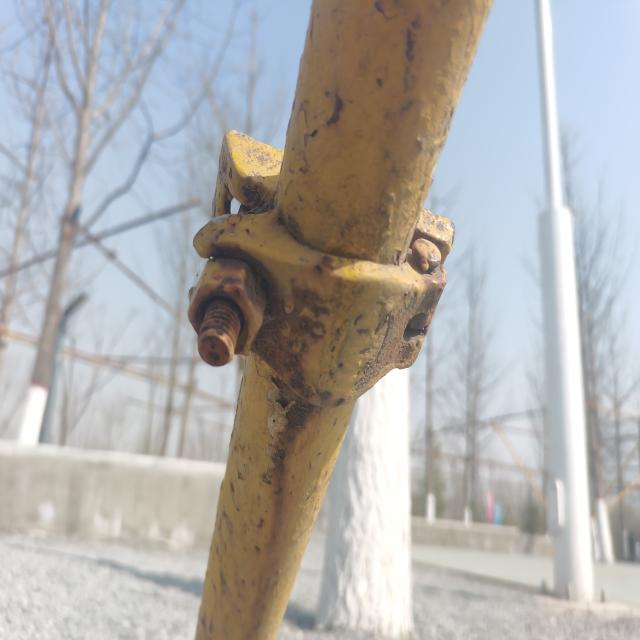bolt nut: (185, 251, 269, 362)
